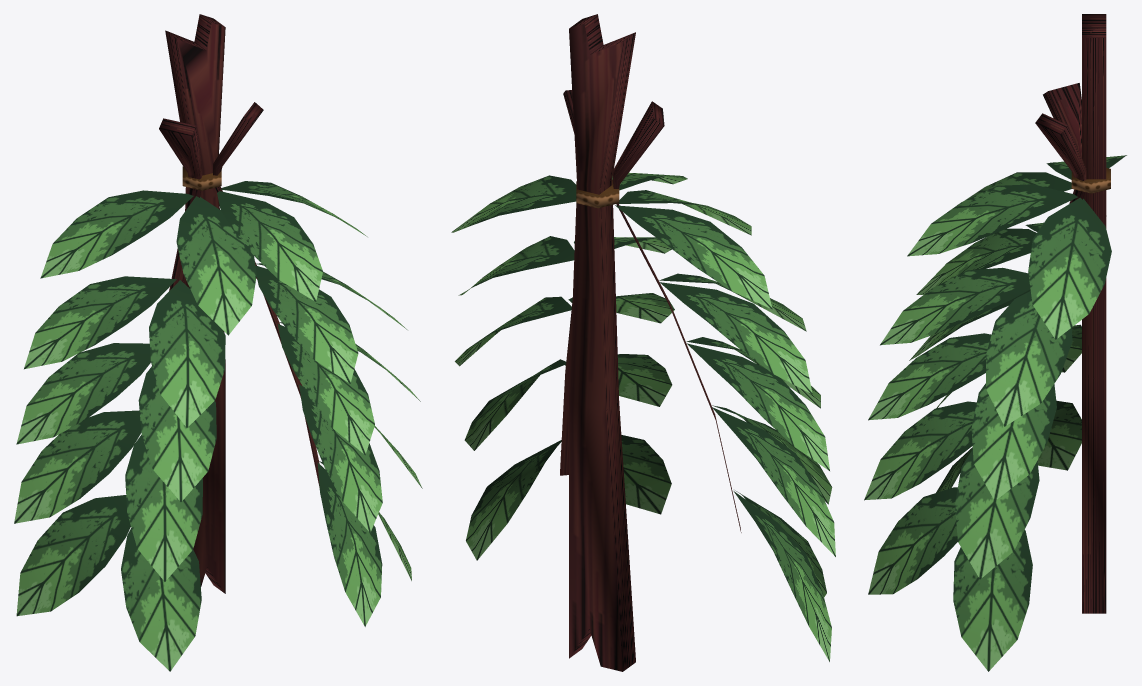
File: Branch_Stand.fbx
3 views of the same model, side by side, from view 1: azimuth 30°, elevation 25°; view 2: azimuth 150°, elevation 25°; view 3: azimuth 270°, elevation 25° (orthographic). The views are drawn at different scales.
Parts seen in each view (by area): view 1: Branch_Stand; view 2: Branch_Stand; view 3: Branch_Stand.
Boxes of the visible parts, <box> form: Branch_Stand: <box>14,14,422,671</box>; Branch_Stand: <box>451,14,835,671</box>; Branch_Stand: <box>864,14,1126,671</box>.
Bounding box in the file's own units: 0.5411 × 0.3264 × 0.7966.
Materials: 1 (1 with a texture image).
